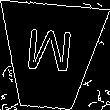M_S: (24, 29, 76, 83)
